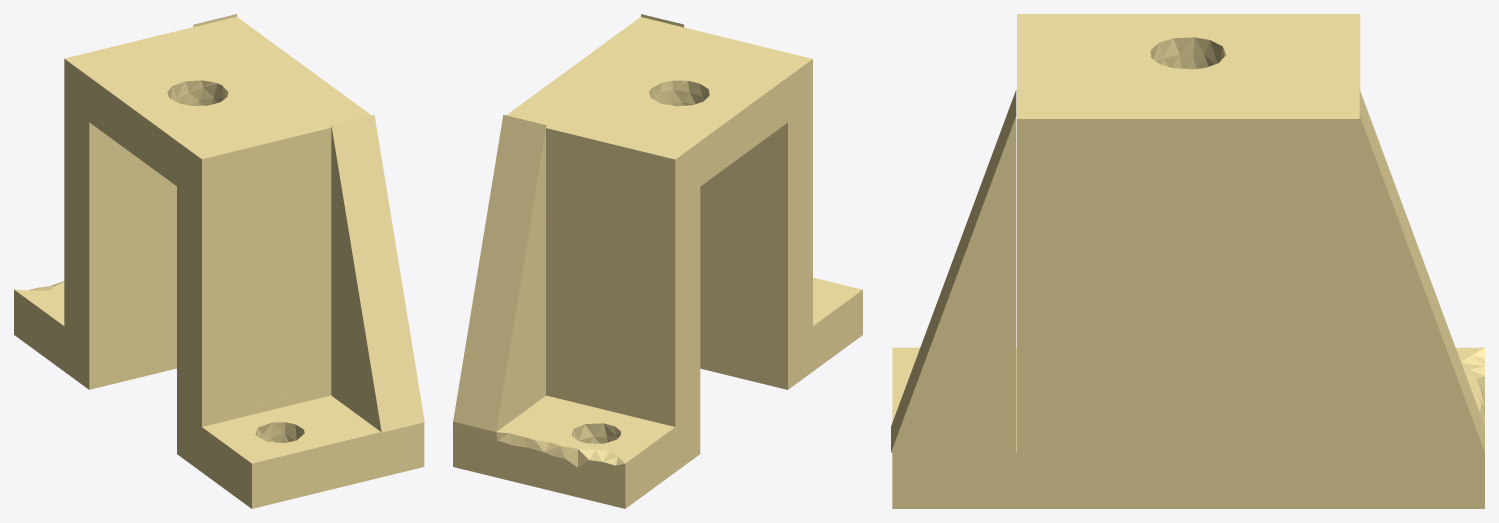
The model's file is input.gltf.
3 renders of one model, left to right at view 1: azimuth 30°, elevation 25°; view 2: azimuth 150°, elevation 25°; view 3: azimuth 270°, elevation 25°, orthographic. The views are drawn at different scales.
Visible parts, largest first — view 1: Renderer Node; view 2: Renderer Node; view 3: Renderer Node.
Boxes of the visible parts, x1,y1,x2,y2 form: Renderer Node: [14, 14, 424, 508]; Renderer Node: [453, 14, 862, 508]; Renderer Node: [891, 14, 1484, 508].
Bounding box in the file's own units: 0.5625 × 0.9844 × 1.35.
